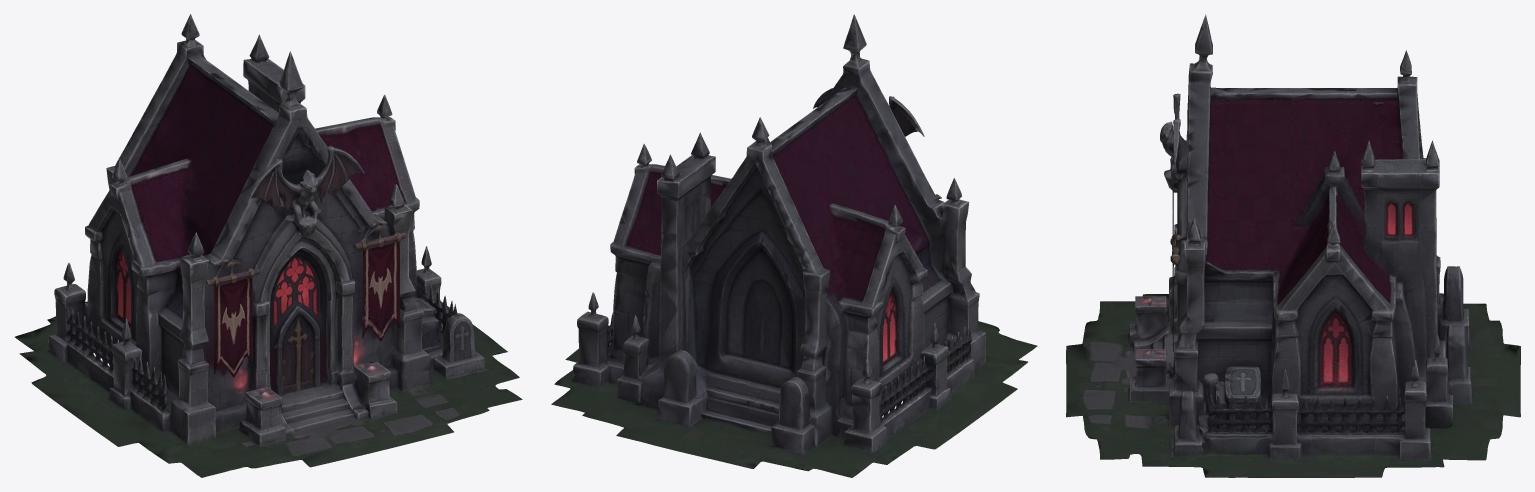
Rendered from crypt.glb.
3 renders of one model, left to right at view 1: azimuth 30°, elevation 25°; view 2: azimuth 150°, elevation 25°; view 3: azimuth 270°, elevation 25°, orthographic. The views are drawn at different scales.
Size of the model in its own units: 1.9 by 1.64 by 1.89.
1 material, 1 textured.
